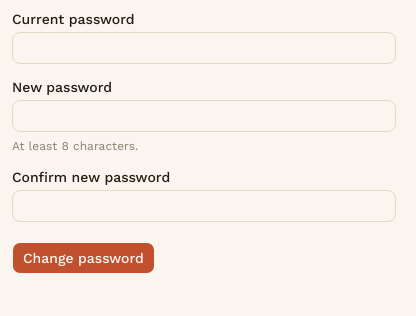
Test: <PasswordForm /> — validation and submission › requires a current password before submitting
Type "NewPassw0rd!" into the password field labelled "New password".
click(204, 116); type("NewPassw0rd!")  # box [12, 100, 396, 132]
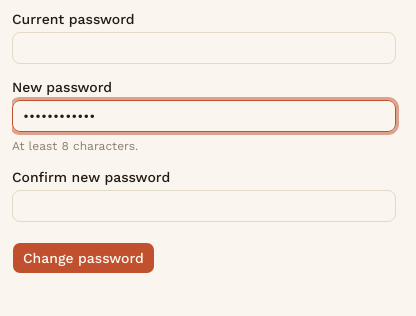
Type "NewPassw0rd!" into the password field labelled "Confirm new password".
click(204, 206); type("NewPassw0rd!")  # box [12, 190, 396, 222]
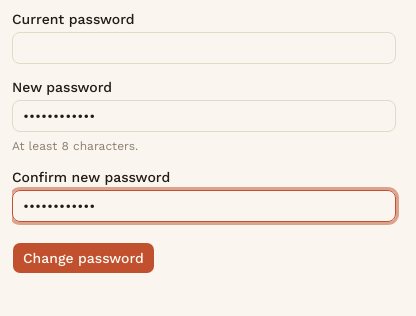
Click the button "Change password".
click(83, 258)  # box [12, 242, 155, 274]
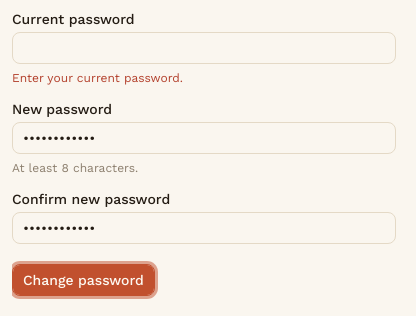
Now the text "Enter your current password." is shown, box [12, 71, 183, 85]
